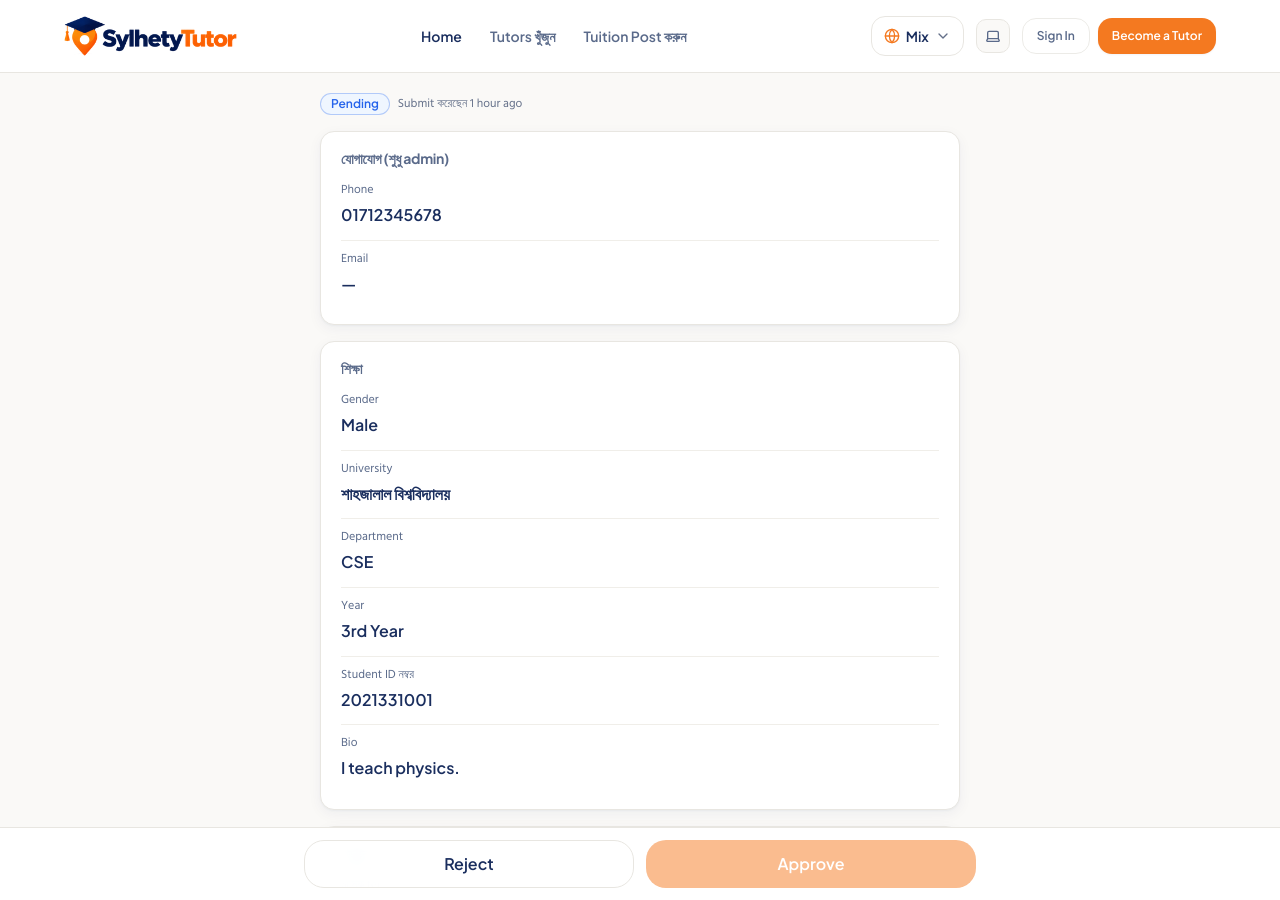
Test case: VerificationDetail › shows the server's reason error next to the box
Click the button "Reject" at {"x": 469, "y": 864}, box [304,840,634,888]
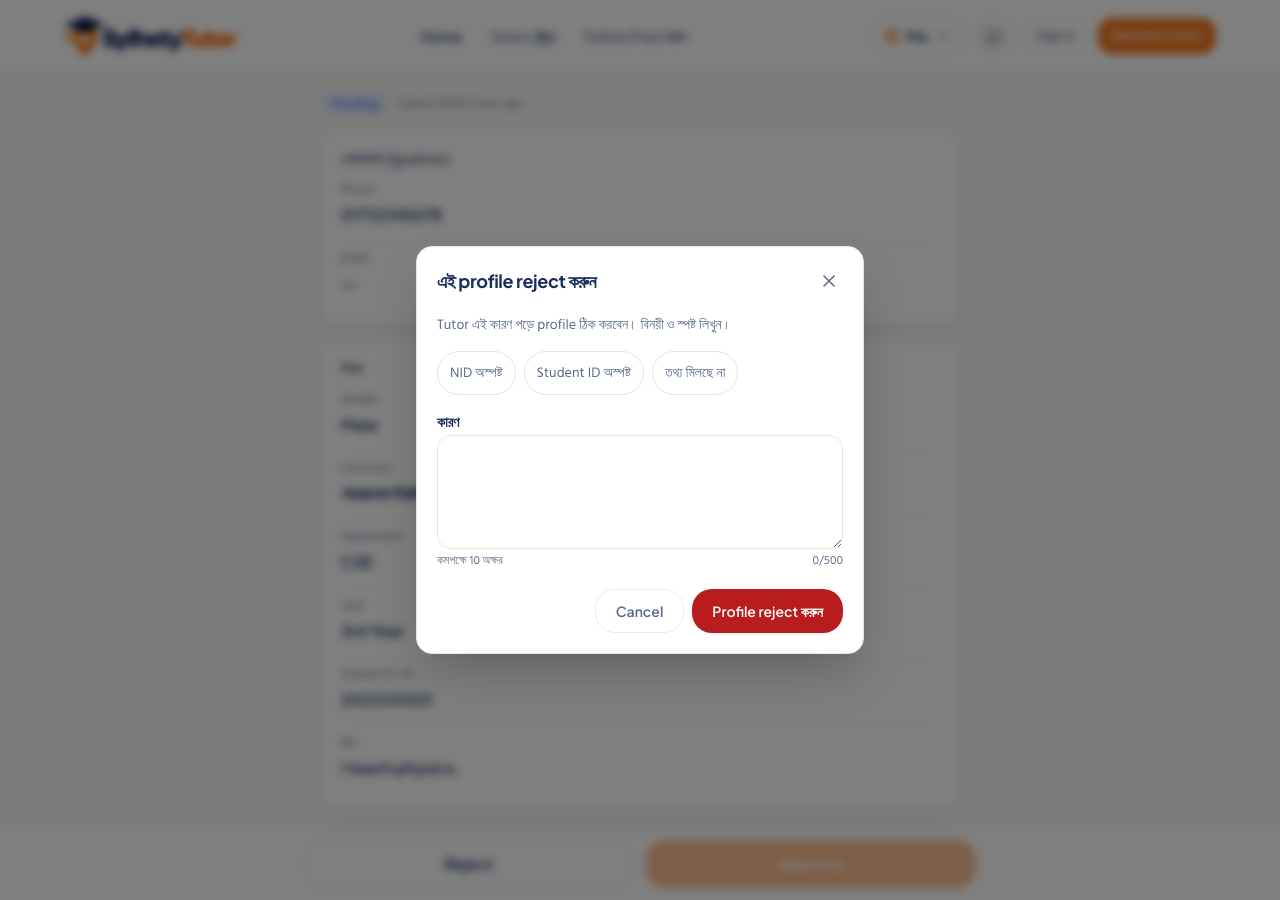
Type "a long enough reason" into the text box at {"x": 640, "y": 492}, box [437,435,843,549]
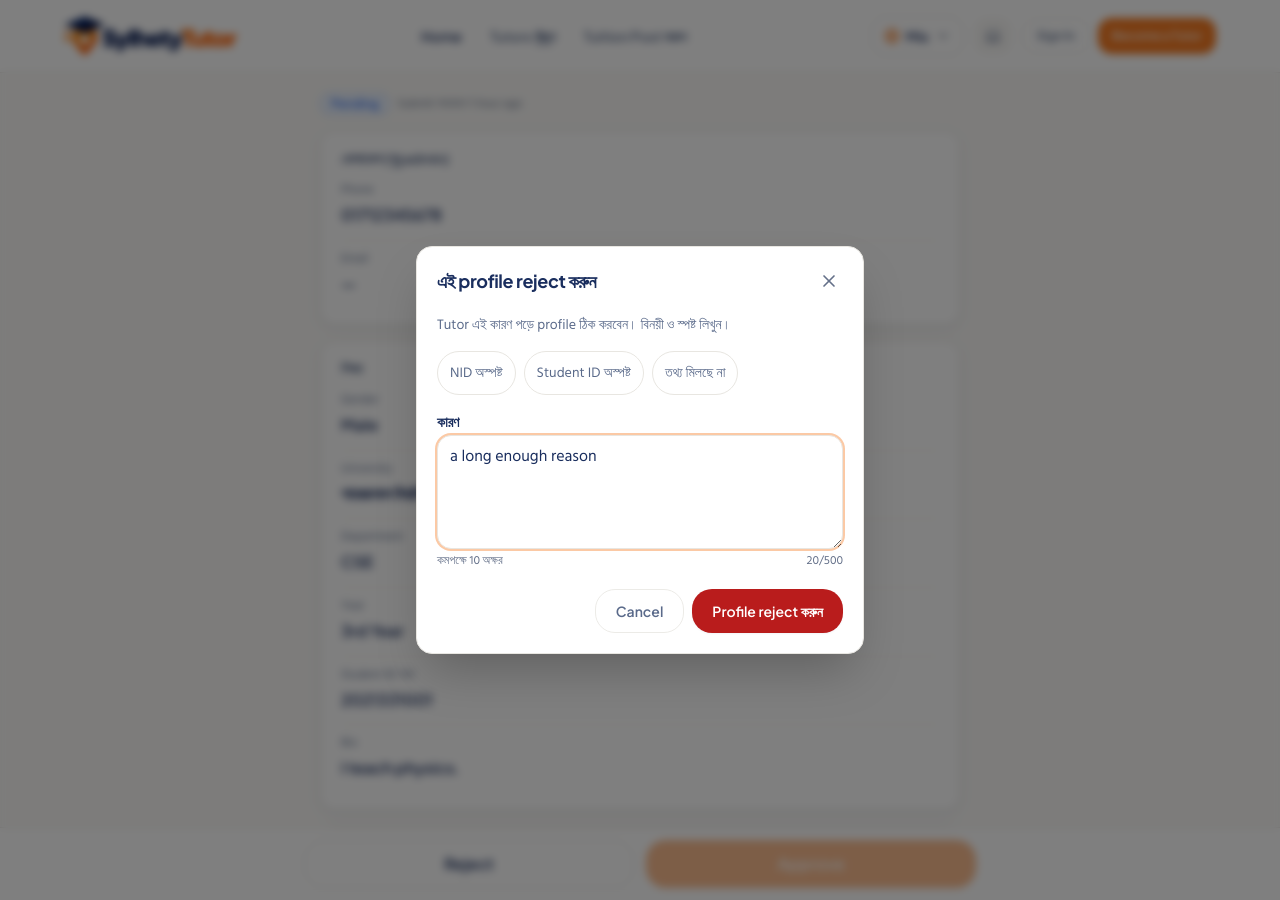
Click the button "Profile reject করুন" at {"x": 768, "y": 611}, box [692,589,843,633]
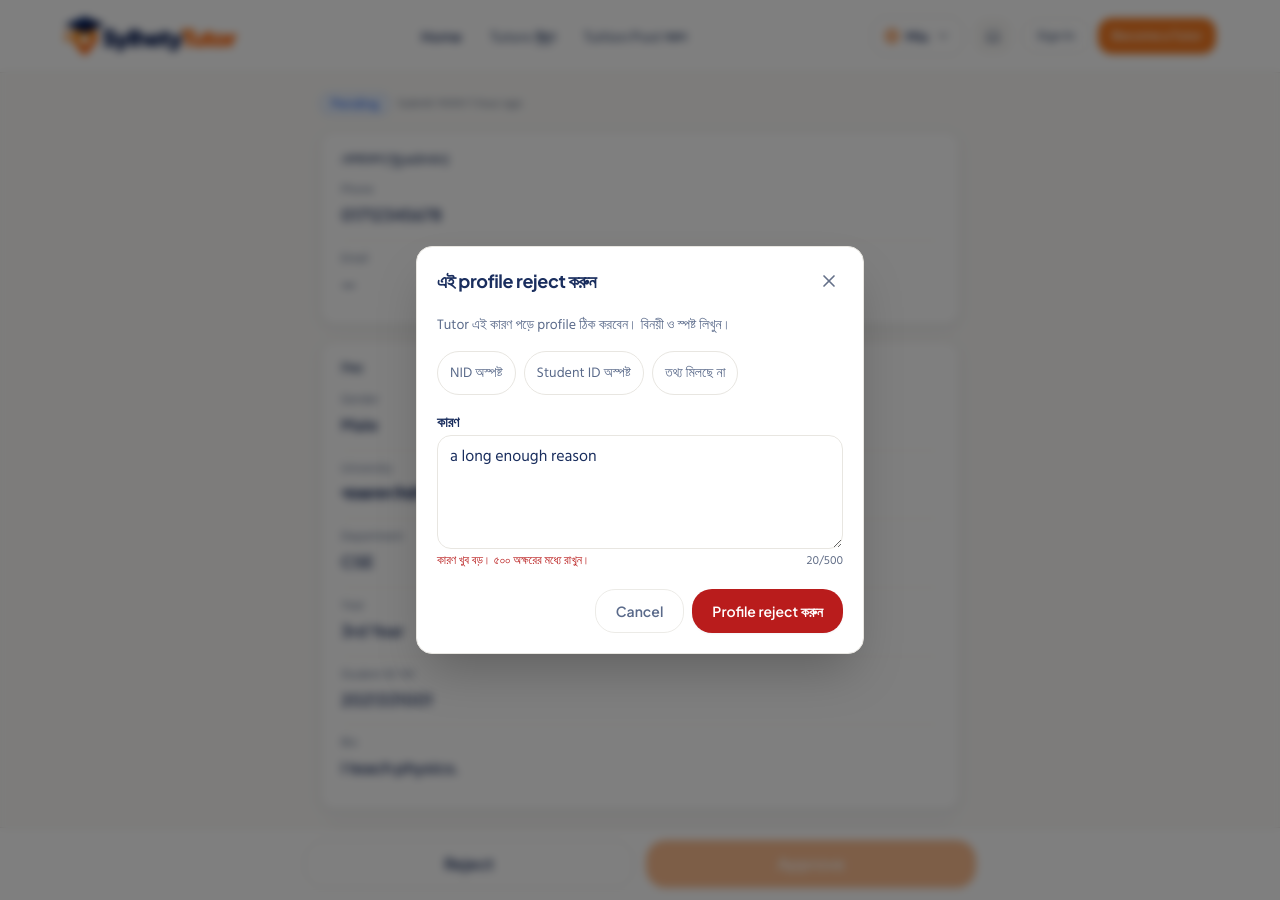
Check: the text "কারণ খুব বড়। ৫০০ অক্ষরের মধ্যে রাখুন।" is shown, box [437,553,590,569]
